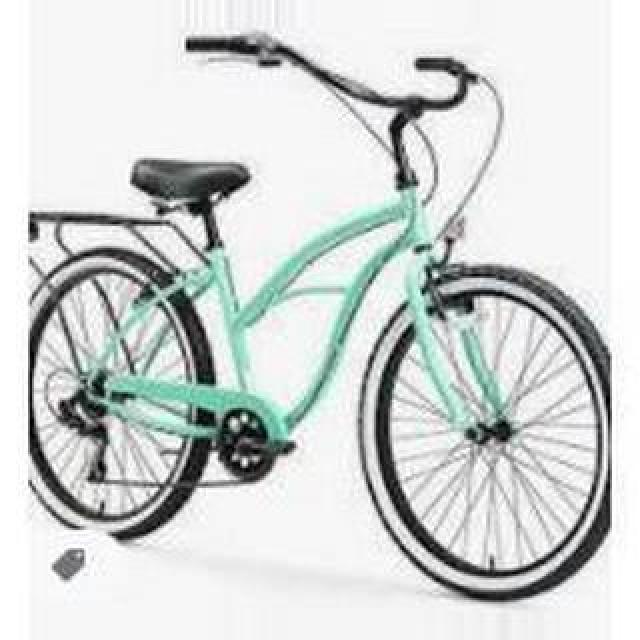Person: (29, 36, 621, 604)
